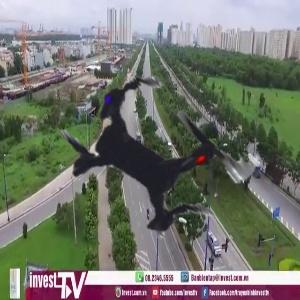drone: (10, 9, 299, 298)
